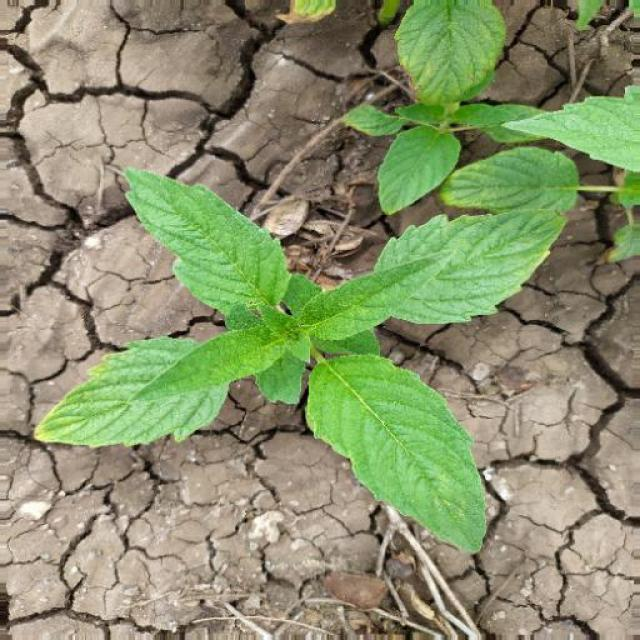crop: (46, 165, 549, 555)
